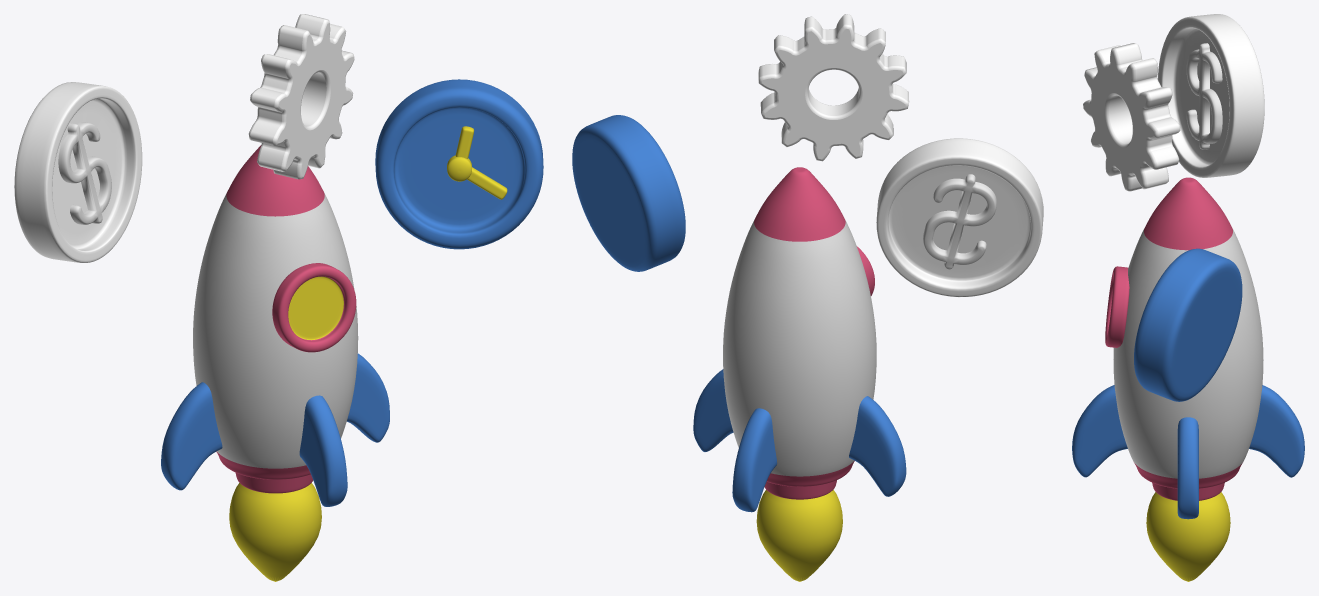
The model's file is bootstraping-3d-animated-icon-1644213069114.glb.
3 views of the same model, side by side, from view 1: azimuth 30°, elevation 25°; view 2: azimuth 150°, elevation 25°; view 3: azimuth 270°, elevation 25° (orthographic). The views are drawn at different scales.
Parts seen in each view (by area): view 1: Cylinder.091, Cylinder.094, Cylinder.093, Extrude.021, Plane.129, Cylinder.092, Circle.006; view 2: Cylinder.091, Cylinder.093, Extrude.021, Cylinder.094, Plane.129, Cylinder.092; view 3: Cylinder.091, Cylinder.093, Cylinder.094, Extrude.021, Plane.129, Cylinder.092, Circle.006.
Part boxes in pixels (x1,y1,x2,y2): Cylinder.091: [193, 145, 358, 493]; Cylinder.094: [375, 79, 543, 249]; Cylinder.093: [14, 82, 142, 262]; Extrude.021: [248, 14, 354, 179]; Plane.129: [161, 353, 389, 506]; Cylinder.092: [229, 483, 321, 581]; Circle.006: [272, 263, 356, 352]; Cylinder.091: [723, 167, 876, 499]; Cylinder.093: [876, 138, 1043, 297]; Extrude.021: [758, 14, 909, 161]; Cylinder.094: [572, 115, 685, 271]; Plane.129: [693, 369, 906, 512]; Cylinder.092: [756, 490, 842, 581]; Cylinder.091: [1113, 177, 1263, 500]; Cylinder.093: [1157, 14, 1264, 177]; Cylinder.094: [1134, 248, 1242, 401]; Extrude.021: [1083, 43, 1180, 191]; Plane.129: [1072, 385, 1304, 519]; Cylinder.092: [1146, 492, 1230, 581]; Circle.006: [1105, 266, 1129, 347].
Size of the model in its own units: 7.37 by 7.98 by 3.18.
